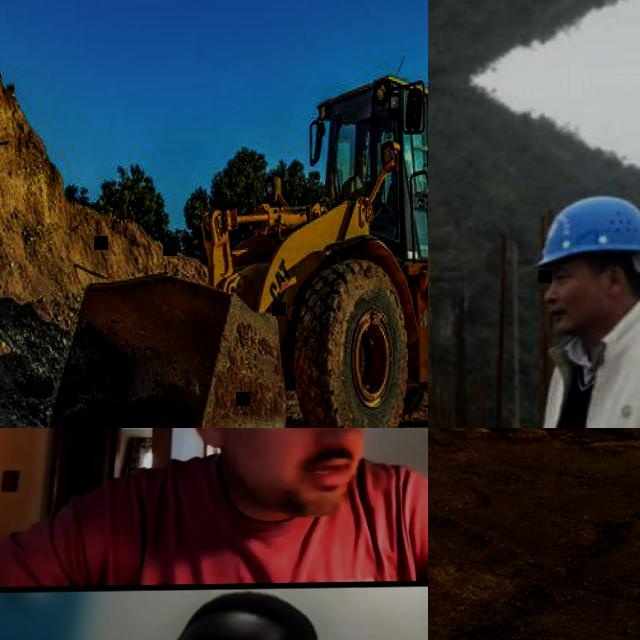Hardhat: (532, 196, 640, 268)
NO-Hardhat: (167, 591, 321, 640)
NO-Mask: (235, 449, 361, 522), (548, 297, 612, 334)
NO-Safety Vest: (82, 459, 428, 583), (546, 334, 640, 428)
Person: (0, 428, 428, 587), (532, 192, 640, 428), (39, 588, 428, 640)
machinery: (3, 59, 428, 428)
